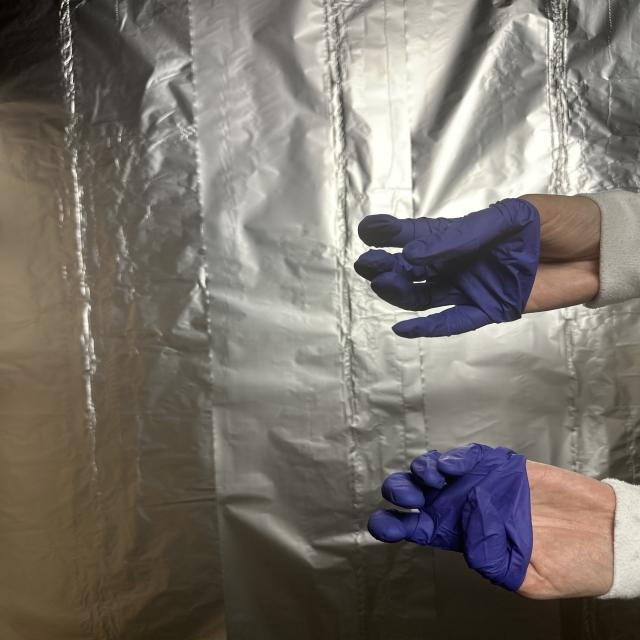glove_partial: (365, 437, 618, 600), (351, 188, 612, 339)
